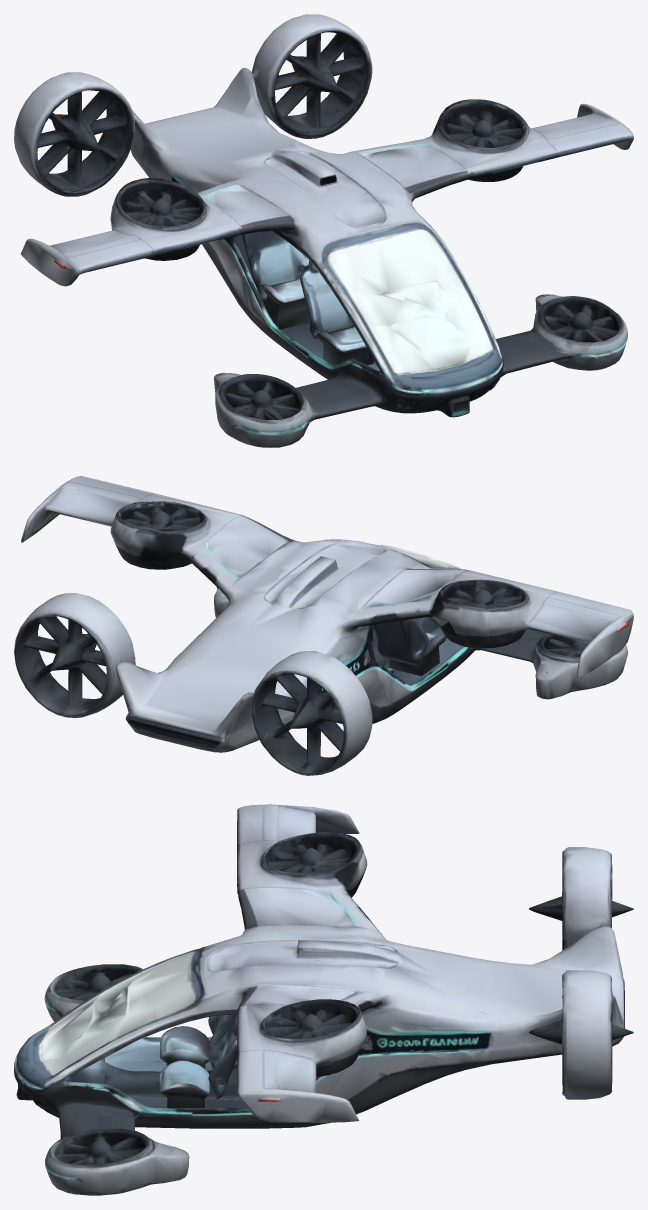
Rendered from taxi.glb.
3 views of the same model, one above another, from view 1: azimuth 30°, elevation 25°; view 2: azimuth 150°, elevation 25°; view 3: azimuth 270°, elevation 25° (orthographic). The views are drawn at different scales.
Visible parts, largest first — view 1: node_0; view 2: node_0; view 3: node_0.
Boxes of the visible parts, x1,y1,x2,y2 form: node_0: (14,14,633,447); node_0: (14,476,633,775); node_0: (14,804,633,1195).
Size of the model in its own units: 1.16 by 0.3452 by 1.04.
Materials: 1 (1 with a texture image).
